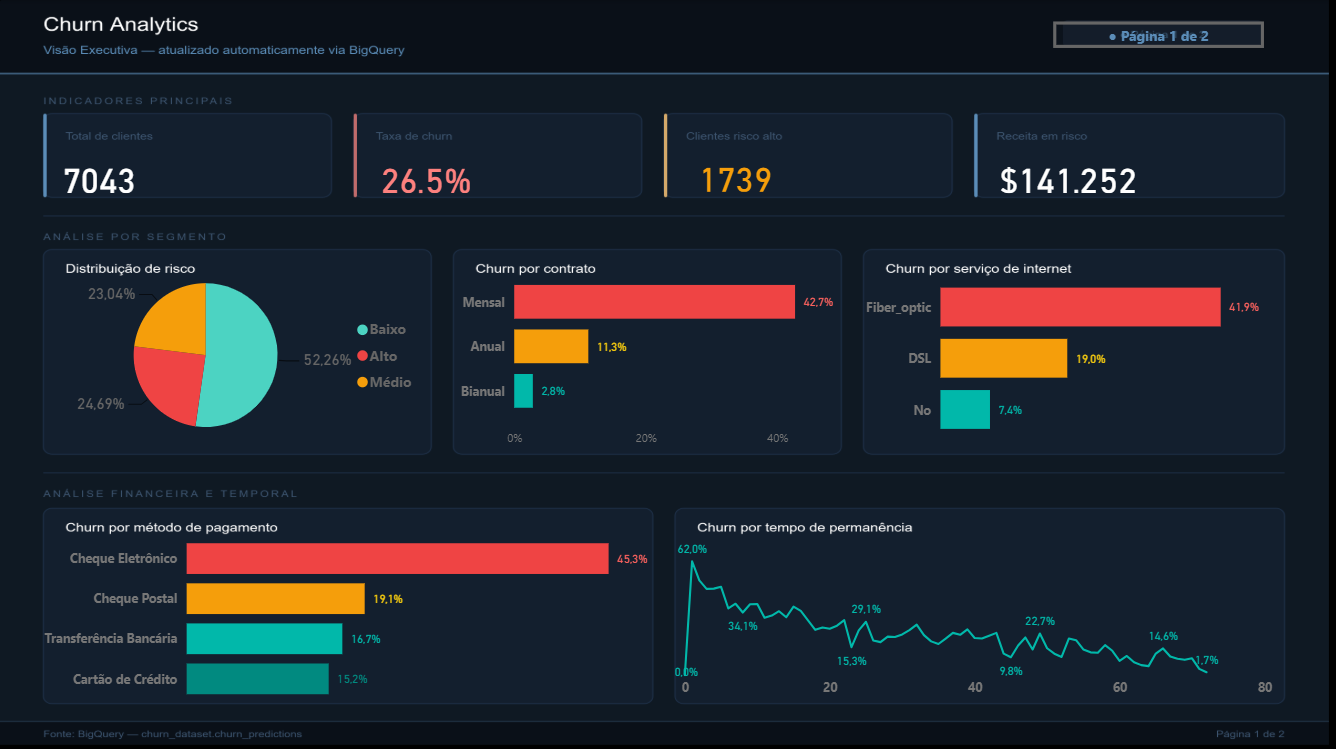

Layout of this report page (visuals, bound fields, positions):
{"tool":"powerbi","page":{"name":"Página 1","canvas":[1280,720],"ordinal":0},"visuals":[{"type":"card","fields":{"Values":["Count(churn_predictions.customerID)"]},"box":[50,151.2,92.5,37.5],"z":0},{"type":"card","fields":{"Values":["churn_predictions.Taxa de Churn"]},"box":[345,151.2,126.2,37.5],"z":1000},{"type":"card","fields":{"Values":["churn_predictions.Receita em Risco"]},"box":[935.1,151.8,171.1,37.4],"z":2000},{"type":"pieChart","fields":{"Category":["churn_predictions.risco"],"Y":["CountNonNull(churn_predictions.customerID)"]},"box":[49.4,242.2,359.1,194],"z":3000},{"type":"clusteredBarChart","fields":{"Category":["vw_bi_predictions.contrato"],"Y":["churn_predictions.Taxa de Churn"]},"box":[435,242.2,386.8,194],"z":4000},{"type":"clusteredBarChart","fields":{"Category":["churn_predictions.InternetService"],"Y":["churn_predictions.Taxa de Churn"]},"box":[821.8,242.2,401.3,194],"z":5000},{"type":"clusteredBarChart","fields":{"Category":["vw_bi_predictions.metodo_pagamento"],"Y":["churn_predictions.Taxa de Churn"]},"box":[37.4,490.4,591.7,194],"z":6000},{"type":"lineChart","fields":{"Category":["churn_predictions.tenure"],"Y":["churn_predictions.Taxa de Churn"]},"box":[639.9,490.4,583.2,184.4],"z":7000},{"type":"actionButton","title":"● Página 1 de 2","box":[1006.2,20.5,201.2,25.3],"z":8000},{"type":"card","fields":{"Values":["Medidas.Total Clientes Risco Alto"]},"box":[639.9,150.6,126.2,37.5],"z":9000}]}

Visuals, with their boxes in screenshot pixels (x1, y1, x2, y2), scaled from the page's 1280x720 canvas onto the 1336x749 screenshot:
card - Count(churn_predictions.customerID): {"left": 52, "top": 157, "right": 149, "bottom": 196}
card - churn_predictions.Taxa de Churn: {"left": 360, "top": 157, "right": 492, "bottom": 196}
card - churn_predictions.Receita em Risco: {"left": 976, "top": 158, "right": 1155, "bottom": 197}
pieChart - churn_predictions.risco x CountNonNull(churn_predictions.customerID): {"left": 52, "top": 252, "right": 426, "bottom": 454}
clusteredBarChart - vw_bi_predictions.contrato x churn_predictions.Taxa de Churn: {"left": 454, "top": 252, "right": 858, "bottom": 454}
clusteredBarChart - churn_predictions.InternetService x churn_predictions.Taxa de Churn: {"left": 858, "top": 252, "right": 1277, "bottom": 454}
clusteredBarChart - vw_bi_predictions.metodo_pagamento x churn_predictions.Taxa de Churn: {"left": 39, "top": 510, "right": 657, "bottom": 712}
lineChart - churn_predictions.tenure x churn_predictions.Taxa de Churn: {"left": 668, "top": 510, "right": 1277, "bottom": 702}
"● Página 1 de 2" actionButton: {"left": 1050, "top": 21, "right": 1260, "bottom": 48}
card - Medidas.Total Clientes Risco Alto: {"left": 668, "top": 157, "right": 800, "bottom": 196}
